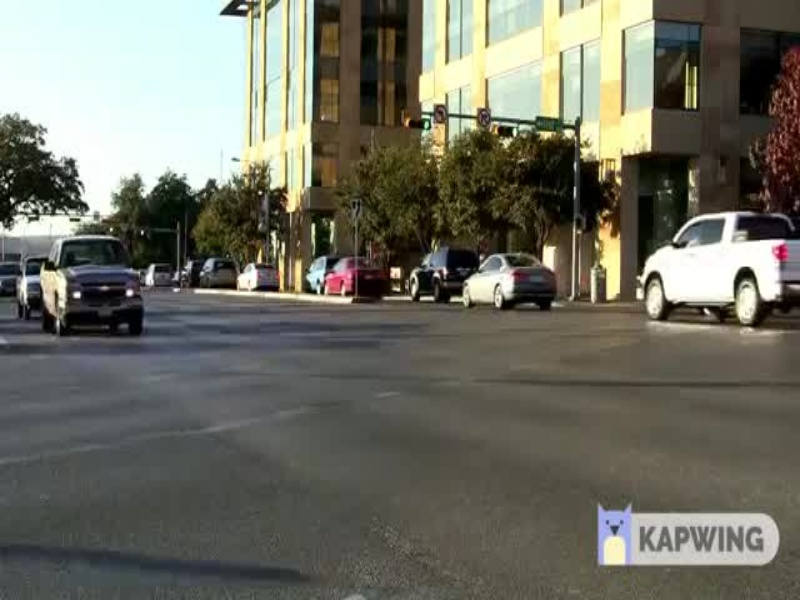car: (635, 214, 800, 331), (28, 233, 154, 341), (454, 258, 561, 311)
